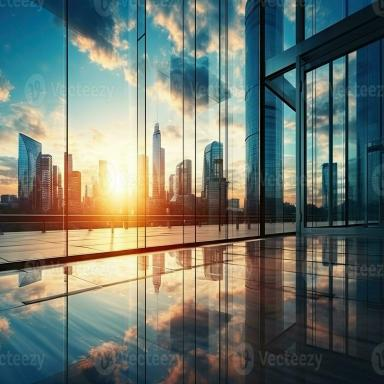glass_panel: (70, 0, 137, 231), (1, 0, 64, 232), (144, 1, 184, 235), (68, 280, 138, 383), (229, 2, 260, 232), (192, 1, 222, 230), (348, 42, 382, 226), (142, 249, 184, 382), (266, 87, 296, 232), (308, 62, 330, 224), (332, 58, 346, 223), (267, 0, 297, 72), (282, 106, 297, 225), (71, 227, 137, 252), (308, 0, 345, 38)
